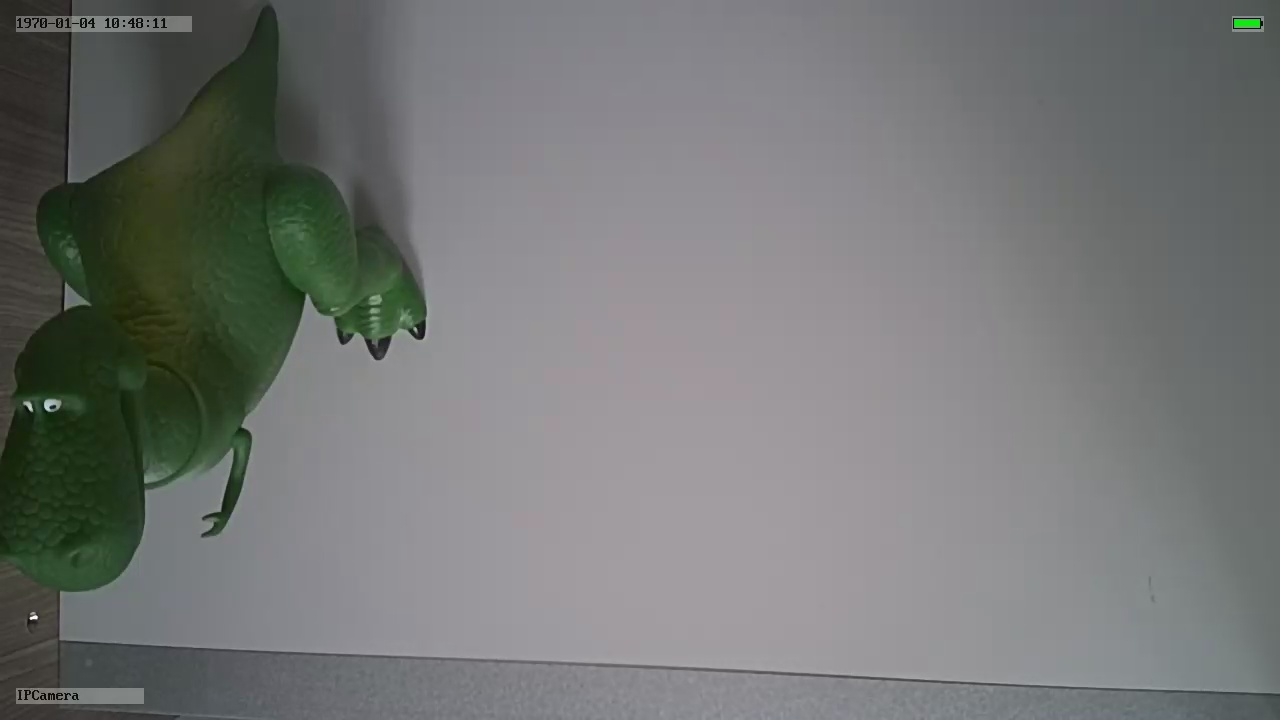rex: (1, 94, 428, 594)
